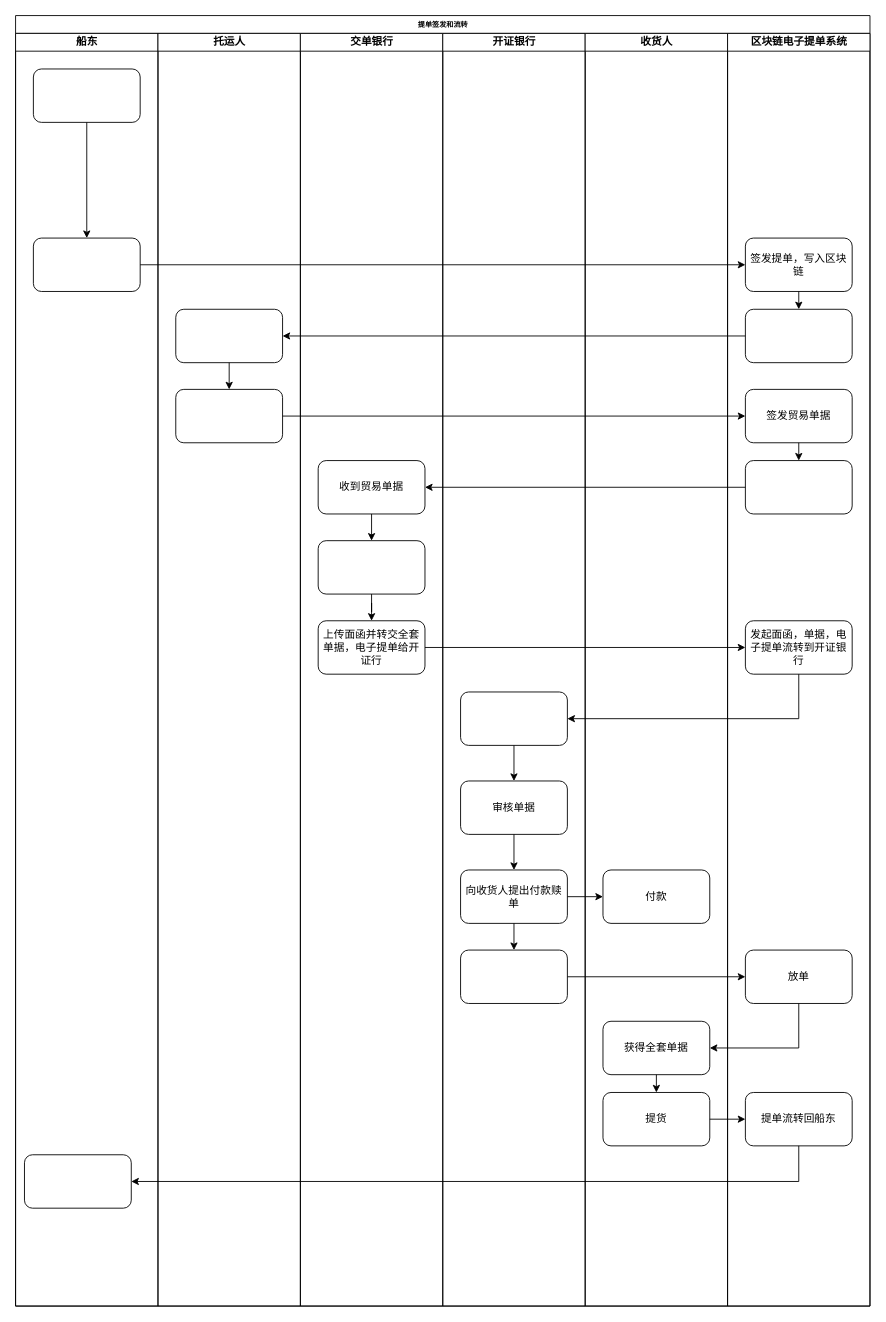
Some shapes in this 886 by 1322 pixel diagram are drawn without their labels. The shapes that lost their labels are listed below. From the top down, each one's centre as x and y in pixels, then its label:
At point (86, 95): "是否货物按时完成装船".
At point (86, 264): "发起签发提单，并标记所有权".
At point (229, 335): "接收电子提单".
At point (798, 335): "提单标记为".
At point (229, 415): "发起签发贸易单据".
At point (798, 487): "贸易单据流转到指定交单行".
At point (371, 567): "审核贸易单据".
At point (513, 718): "收到全套单据".
At point (513, 976): "收到款项，放单".
At point (77, 1181): "回收提单".
